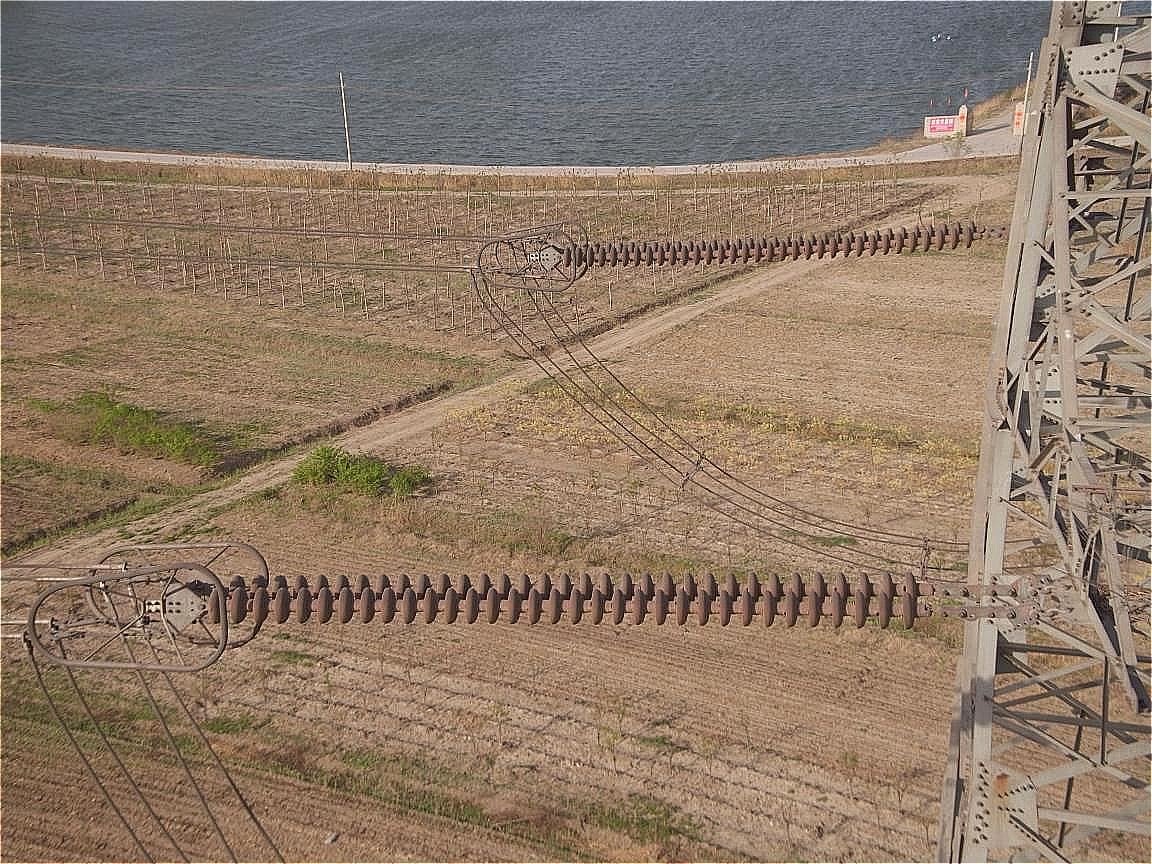insultor1: (199, 558, 966, 649), (561, 215, 982, 270)
